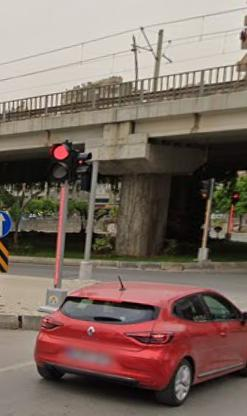redlight: (47, 142, 72, 182)
